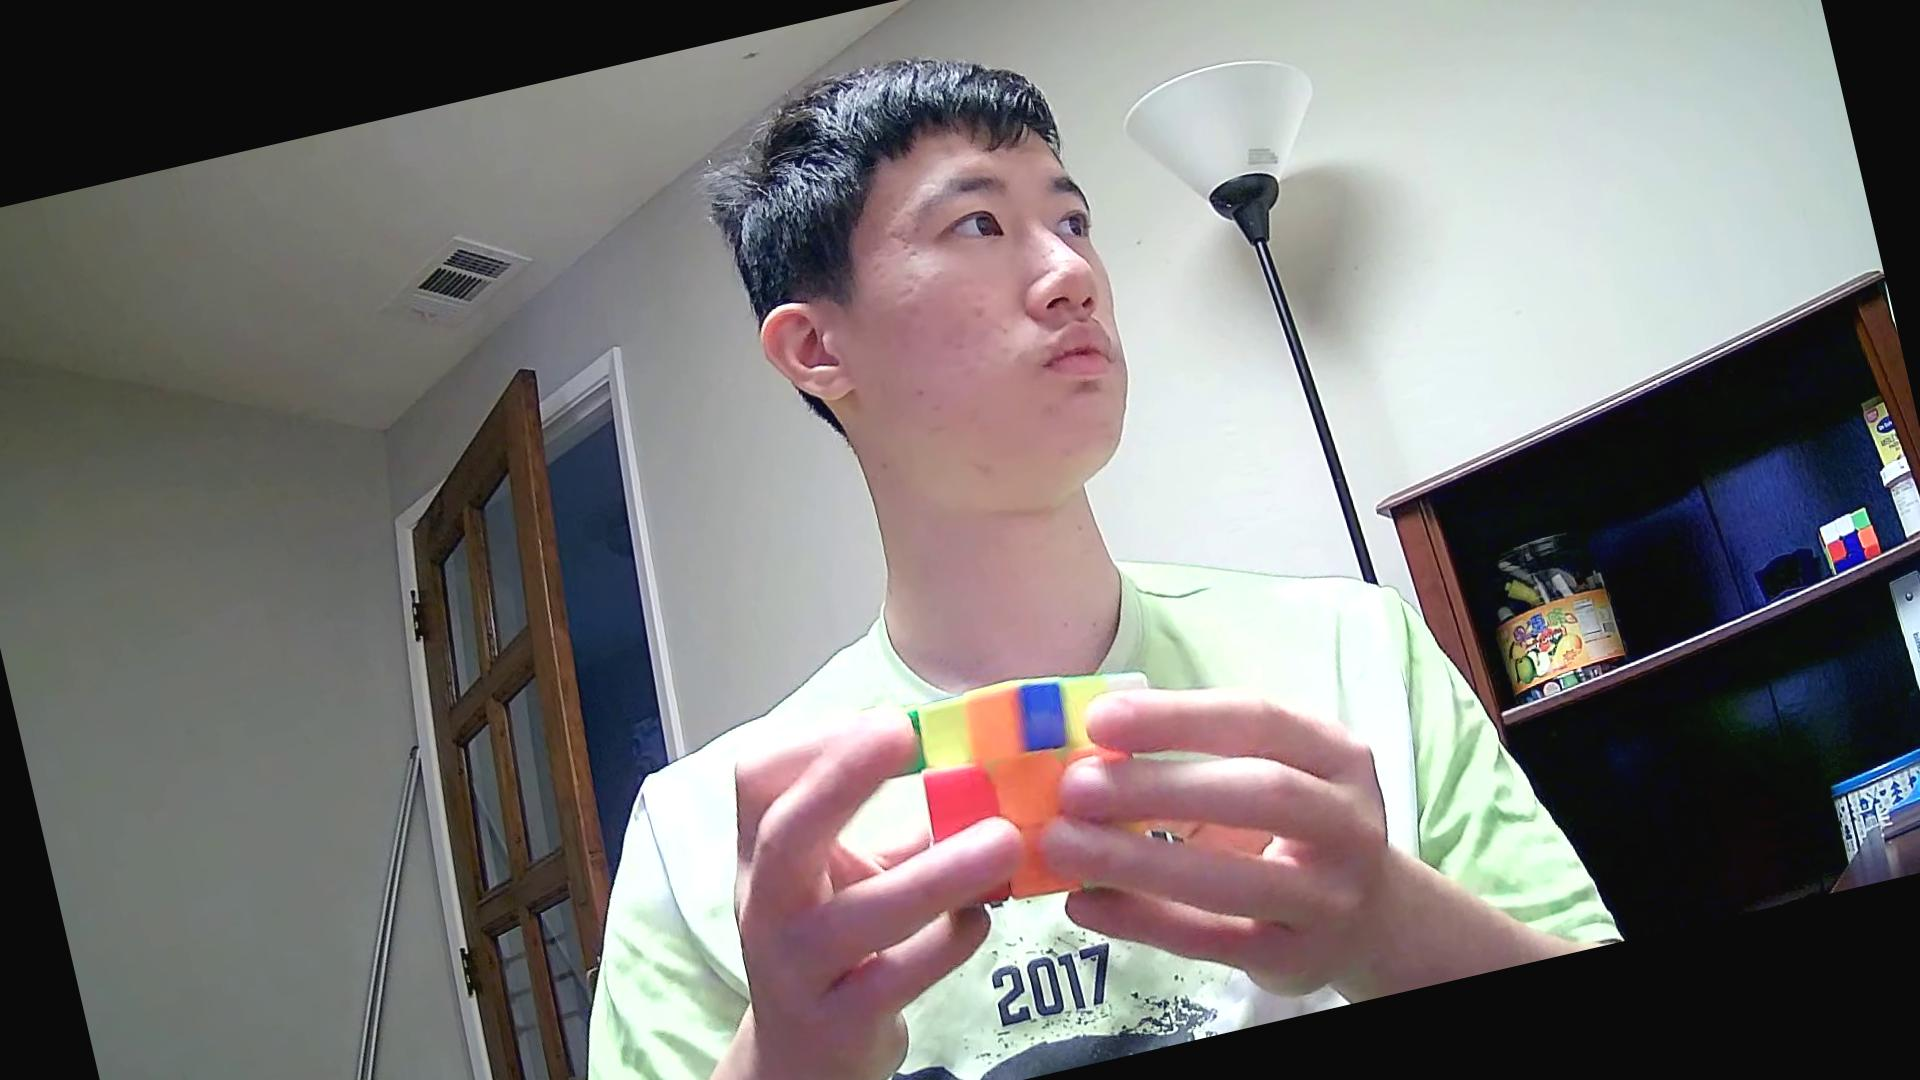Rubiks-Cube: (868, 629, 1193, 936)
